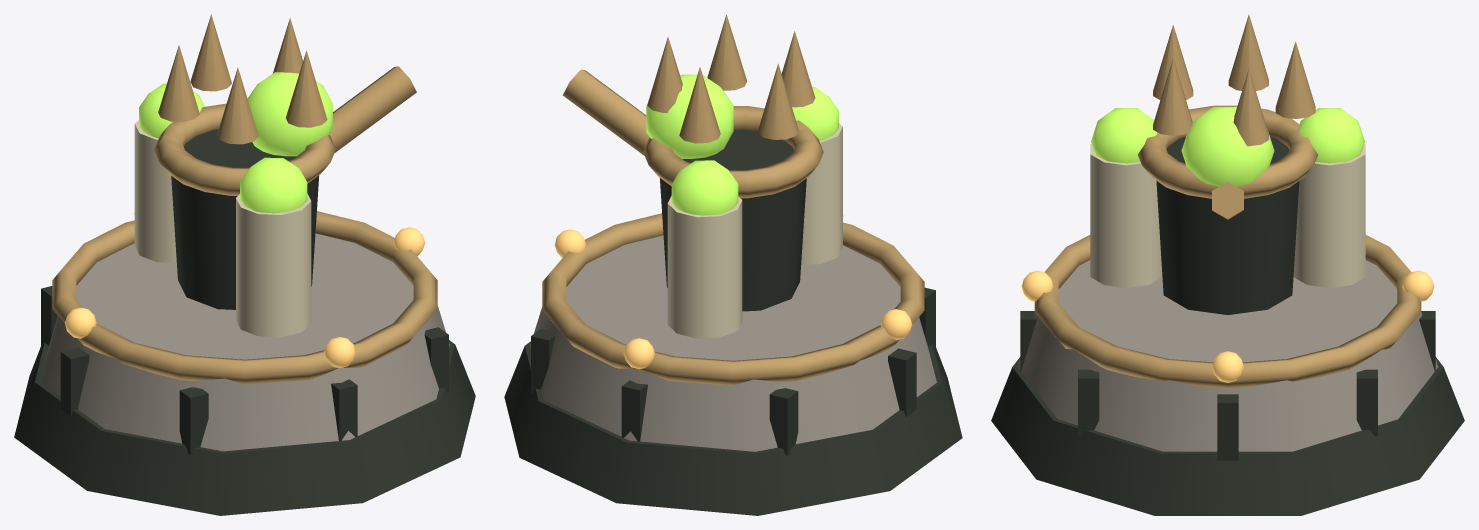
Rendered from tower_poison_poisonGland_ultimate.glb.
The picture shows the model from 3 angles, left to right: view 1: azimuth 30°, elevation 25°; view 2: azimuth 150°, elevation 25°; view 3: azimuth 270°, elevation 25°; orthographic projection.
Visible parts, largest first — view 1: stone_1, foot_0, rim_2, flask_20, vessel_15, vessel_lip_17, flask_22, gland_19, needle_18, poison_reservoir_21, crown_24, crown_26 (+12 smaller); view 2: stone_1, foot_0, rim_2, vessel_15, flask_22, vessel_lip_17, flask_20, gland_19, needle_18, poison_reservoir_23, crown_24, crown_28 (+12 smaller); view 3: stone_1, foot_0, vessel_15, rim_2, flask_20, flask_22, vessel_lip_17, gland_19, poison_reservoir_23, poison_reservoir_21, crown_24, crown_26 (+12 smaller).
Part boxes in pixels (x1,y1,x2,y2): stone_1: [40, 233, 449, 451]; foot_0: [14, 340, 475, 515]; rim_2: [52, 211, 437, 384]; flask_20: [236, 193, 311, 337]; vessel_15: [171, 129, 319, 309]; vessel_lip_17: [154, 103, 335, 195]; flask_22: [134, 120, 176, 262]; gland_19: [247, 72, 332, 156]; needle_18: [329, 66, 416, 152]; poison_reservoir_21: [240, 157, 307, 213]; crown_24: [190, 14, 231, 91]; crown_26: [285, 51, 327, 127]; stone_1: [530, 235, 936, 451]; foot_0: [504, 341, 962, 515]; rim_2: [542, 213, 924, 385]; vessel_15: [660, 129, 806, 311]; flask_22: [667, 196, 742, 338]; vessel_lip_17: [643, 106, 823, 198]; flask_20: [801, 123, 842, 264]; gland_19: [646, 74, 733, 158]; needle_18: [562, 69, 649, 155]; poison_reservoir_23: [671, 160, 738, 215]; crown_24: [679, 67, 720, 143]; crown_28: [757, 63, 798, 139]; stone_1: [1018, 260, 1437, 451]; foot_0: [991, 357, 1464, 515]; vessel_15: [1156, 136, 1299, 314]; rim_2: [1034, 235, 1421, 388]; flask_20: [1090, 144, 1162, 287]; flask_22: [1293, 144, 1365, 287]; vessel_lip_17: [1138, 105, 1317, 198]; gland_19: [1181, 107, 1274, 186]; poison_reservoir_23: [1298, 108, 1364, 163]; poison_reservoir_21: [1091, 108, 1157, 163]; crown_24: [1275, 41, 1315, 118]; crown_26: [1153, 58, 1192, 135].
Size of the model in its own units: 0.5326 by 0.495 by 0.56.
